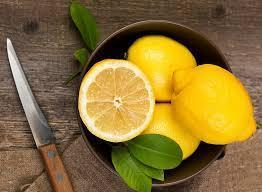lemon: (172, 64, 256, 145), (78, 58, 155, 142), (128, 36, 196, 101), (139, 103, 200, 160)
